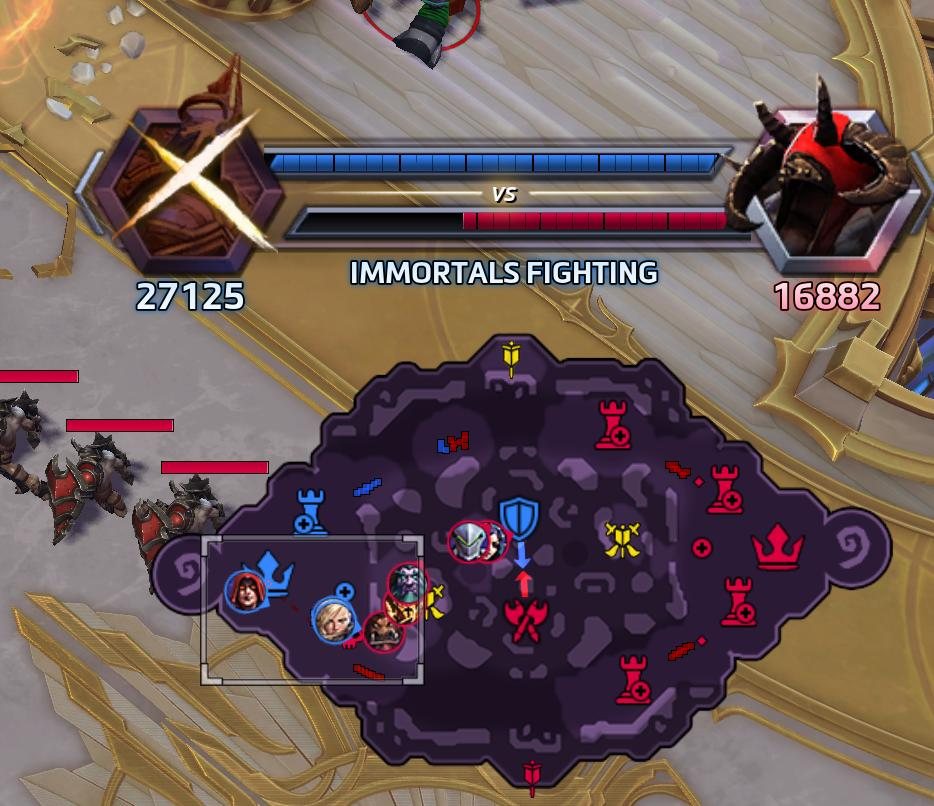blue nexus: (224, 549, 294, 615), (252, 549, 295, 600)
blue player: (310, 596, 358, 644), (224, 569, 266, 613)
blue tower: (289, 479, 335, 542)
red nexus: (748, 521, 810, 574)
red player: (385, 561, 427, 606), (448, 520, 490, 562), (363, 610, 404, 653), (474, 520, 511, 562), (382, 590, 419, 627)
red tower: (703, 462, 752, 517), (591, 399, 638, 454), (718, 576, 764, 628), (615, 652, 655, 704)
